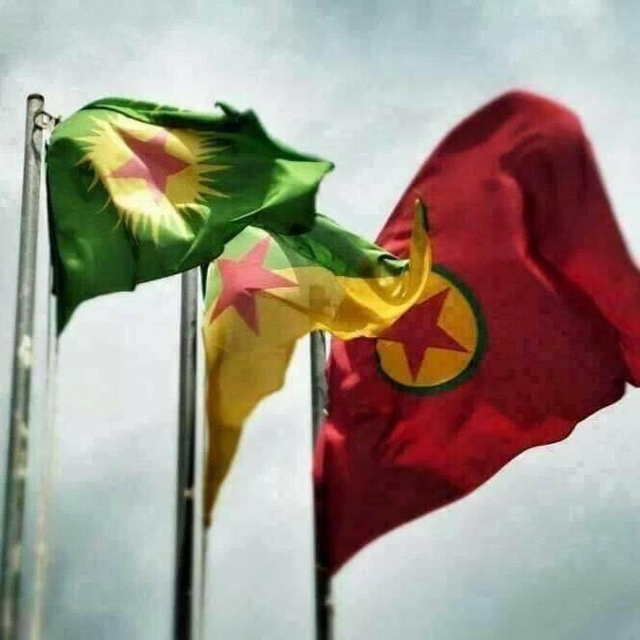KCK: (79, 107, 226, 239)
PKK: (366, 258, 487, 401)
